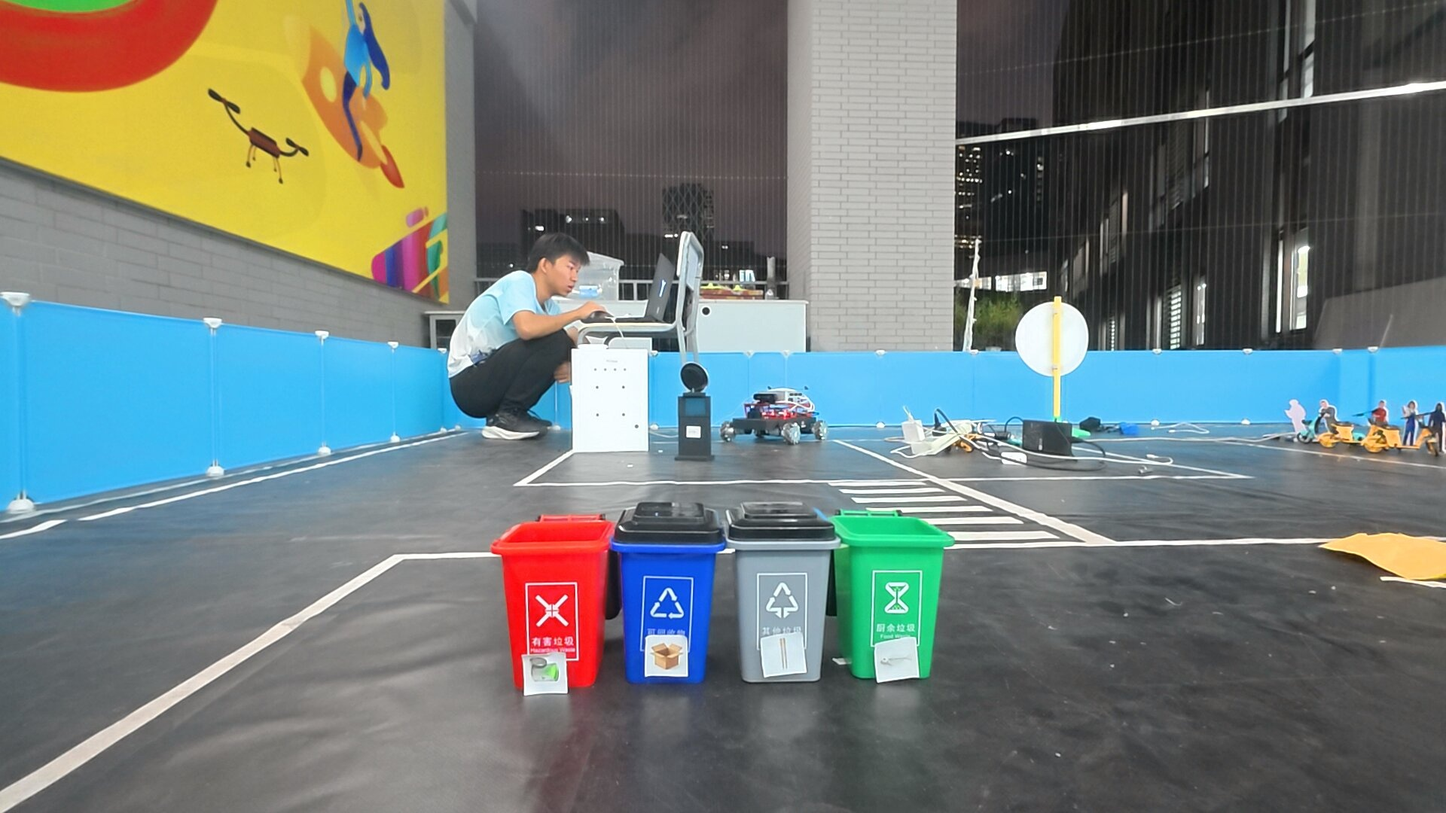food_trash: (877, 646, 914, 676)
hazardous_trash: (525, 657, 564, 691)
other_trash: (764, 638, 799, 672)
recyclable_trash: (647, 637, 686, 671)
